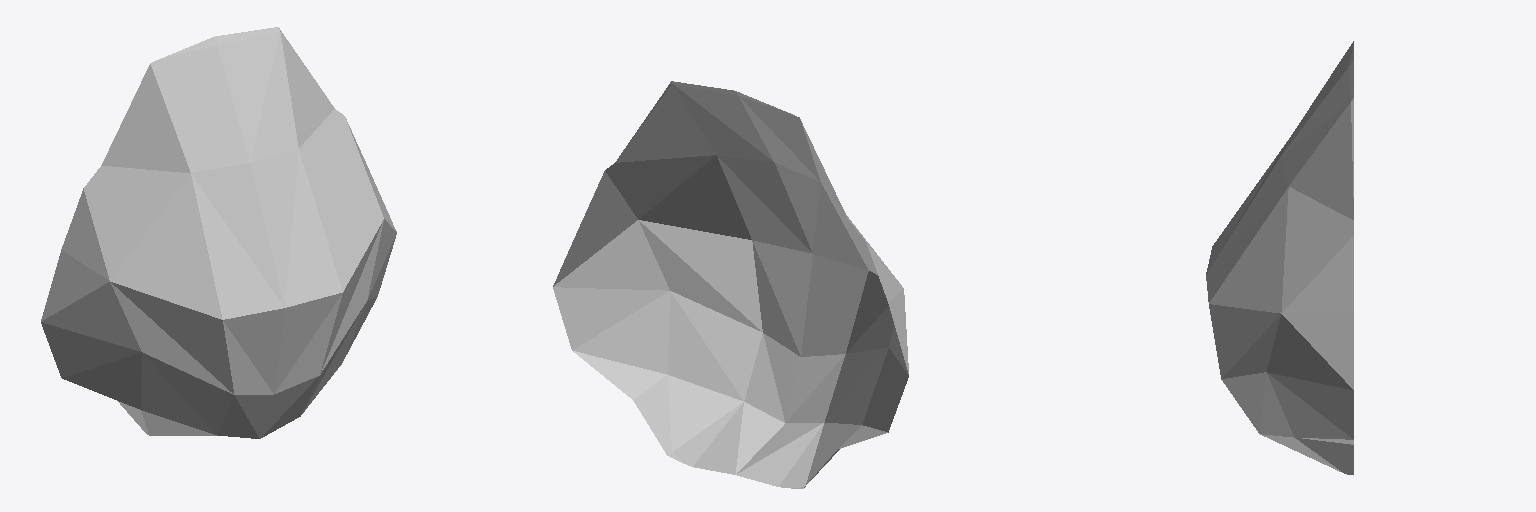
The model's file is nose_tip.obj.
3 renders of one model, left to right at view 1: azimuth 30°, elevation 25°; view 2: azimuth 150°, elevation 25°; view 3: azimuth 270°, elevation 25°, orthographic.
Visible parts, largest first — view 1: object_1; view 2: object_1; view 3: object_1.
Boxes of the visible parts, box(x1,y1,x2,y2) form: object_1: box(41, 27, 396, 438); object_1: box(553, 81, 908, 488); object_1: box(1206, 41, 1353, 474).
Size of the model in its own units: 8.48 by 8.8 by 3.05.